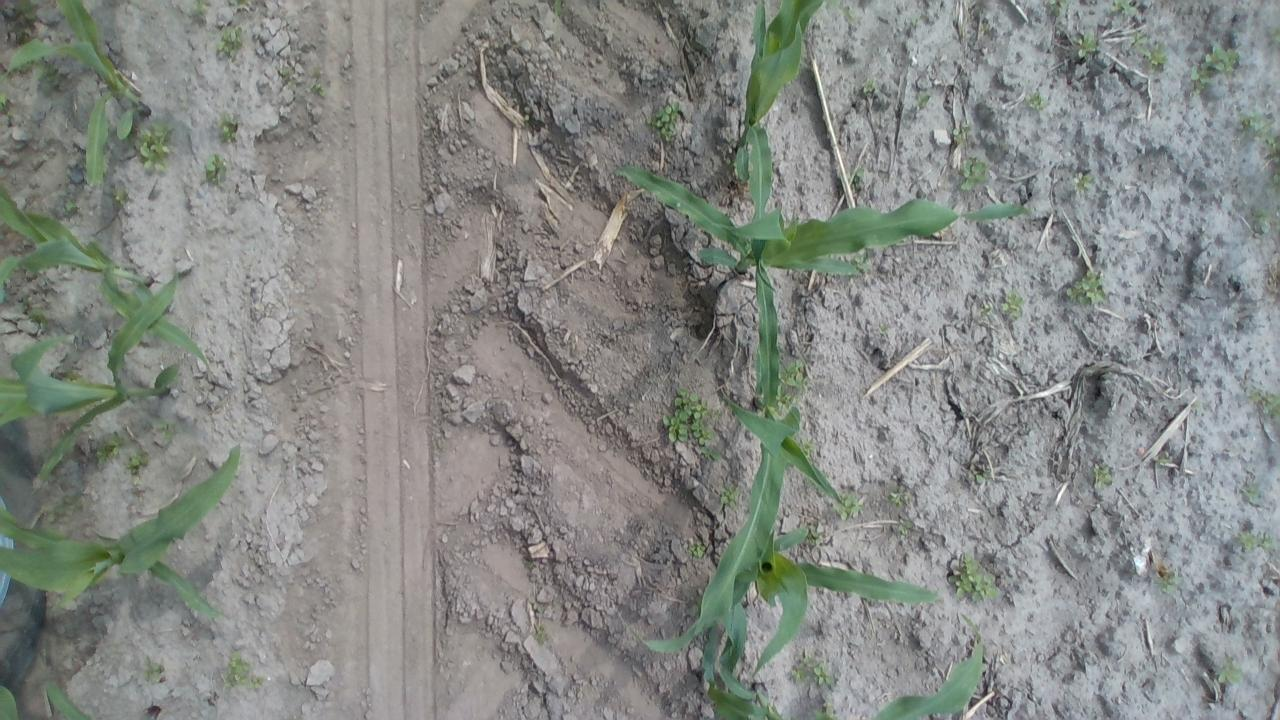Maize: (602, 143, 1048, 411), (634, 257, 839, 660), (681, 507, 950, 685), (0, 442, 245, 620), (0, 175, 215, 376), (1, 275, 182, 483), (2, 0, 148, 191), (700, 623, 986, 719), (735, 0, 820, 230), (873, 619, 989, 719), (0, 678, 106, 718)
Weeds: (662, 386, 724, 462), (949, 553, 1002, 605), (1190, 43, 1242, 92), (138, 122, 176, 176), (1064, 270, 1110, 309), (792, 652, 838, 690), (220, 651, 264, 690), (1131, 31, 1170, 70), (648, 99, 681, 141), (957, 156, 991, 192), (215, 23, 248, 60), (778, 360, 808, 400), (92, 433, 128, 464), (40, 498, 79, 526), (1232, 530, 1276, 554), (1238, 112, 1271, 144), (202, 151, 230, 187), (834, 489, 866, 520), (1246, 387, 1276, 419), (13, 0, 42, 32), (1215, 658, 1245, 688), (1153, 564, 1181, 596), (34, 60, 62, 92), (123, 448, 151, 480), (216, 113, 242, 144), (1076, 30, 1102, 60), (1001, 292, 1028, 320), (1258, 122, 1275, 162), (1092, 461, 1114, 491), (801, 523, 827, 548), (16, 299, 44, 322), (142, 660, 168, 684), (1250, 207, 1274, 232), (527, 622, 552, 646), (1072, 171, 1096, 195), (154, 418, 178, 442), (1238, 477, 1260, 503), (1108, 0, 1140, 17), (949, 124, 972, 147), (1024, 90, 1048, 112), (717, 485, 742, 506), (859, 76, 882, 98), (851, 250, 872, 274), (1043, 0, 1071, 18), (888, 486, 909, 510), (60, 364, 86, 383), (844, 166, 866, 187), (110, 185, 131, 206), (798, 435, 818, 457), (970, 465, 990, 485), (812, 703, 838, 718), (688, 542, 707, 562), (914, 88, 932, 109), (190, 0, 210, 18), (896, 518, 914, 536), (312, 77, 329, 96), (1264, 25, 1278, 47), (279, 66, 296, 84), (61, 200, 80, 215), (1155, 452, 1173, 467), (552, 0, 566, 18), (232, 0, 256, 10), (978, 301, 992, 317), (0, 66, 10, 82)
